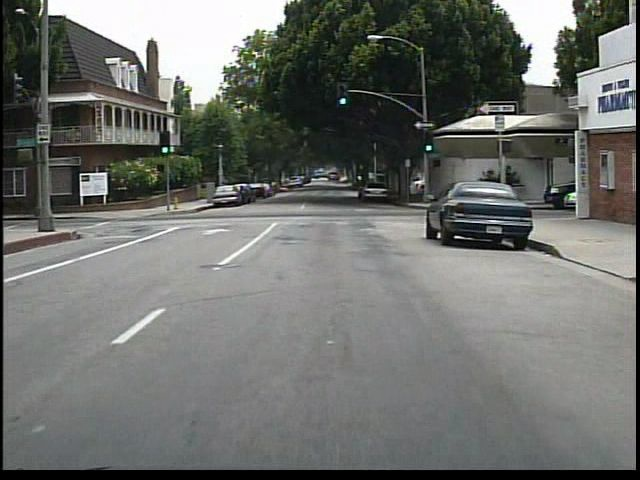person: (501, 170, 524, 209)
